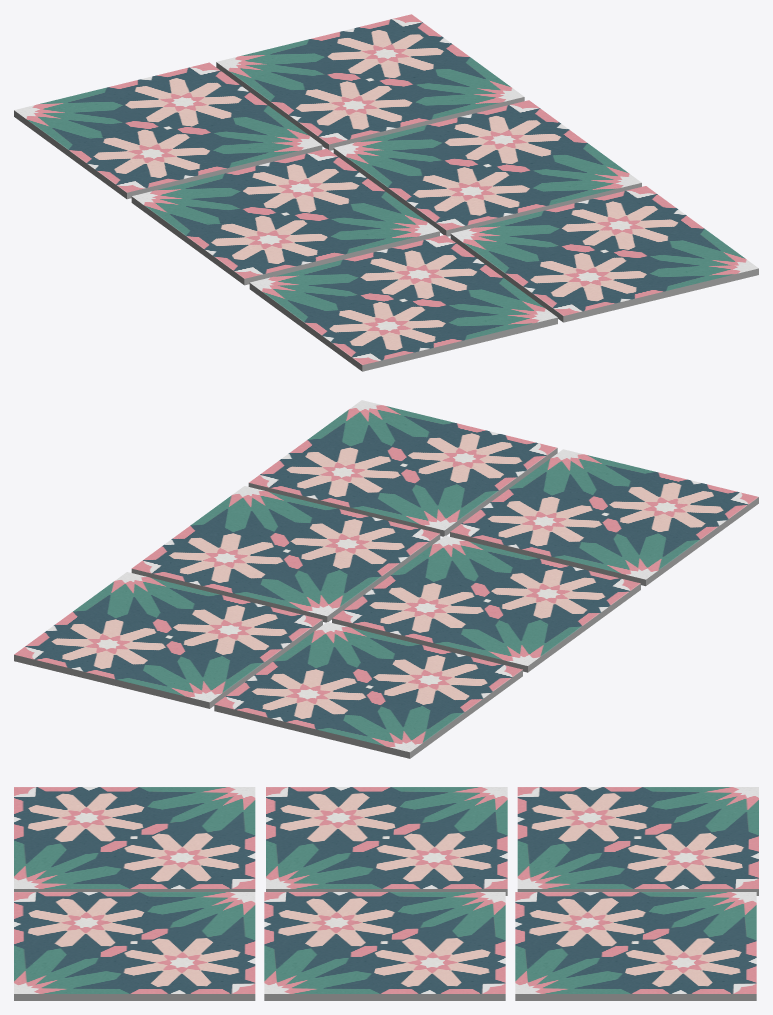
Rendered from baldosa1.glb.
3 views of the same model, one above another, from view 1: azimuth 30°, elevation 25°; view 2: azimuth 150°, elevation 25°; view 3: azimuth 270°, elevation 25° (orthographic). The views are drawn at different scales.
Parts seen in each view (by area): view 1: Cube.004, Cube, Cube.005, Cube.006, Cube.003, Cube.001; view 2: Cube.006, Cube.003, Cube.004, Cube.005, Cube.001, Cube; view 3: Cube, Cube.001, Cube.003, Cube.005, Cube.006, Cube.004.
Boxes of the visible parts, x1,y1,x2,y2 form: Cube.004: (249,235,557,371); Cube: (450,186,758,322); Cube.005: (131,148,439,285); Cube.006: (14,62,322,199); Cube.003: (216,14,524,150); Cube.001: (333,100,641,236); Cube.006: (214,622,522,758); Cube.003: (14,572,322,708); Cube.004: (450,449,758,586); Cube.005: (332,535,640,672); Cube.001: (131,486,440,622); Cube: (248,400,557,536); Cube: (14,892,255,1000); Cube.001: (264,892,505,1000); Cube.003: (515,892,756,1000); Cube.005: (266,787,507,895); Cube.006: (517,787,758,895); Cube.004: (14,787,255,891).
Size of the model in its own units: 7.73 by 0.1221 by 11.76.
Materials: 2 (1 with a texture image).
